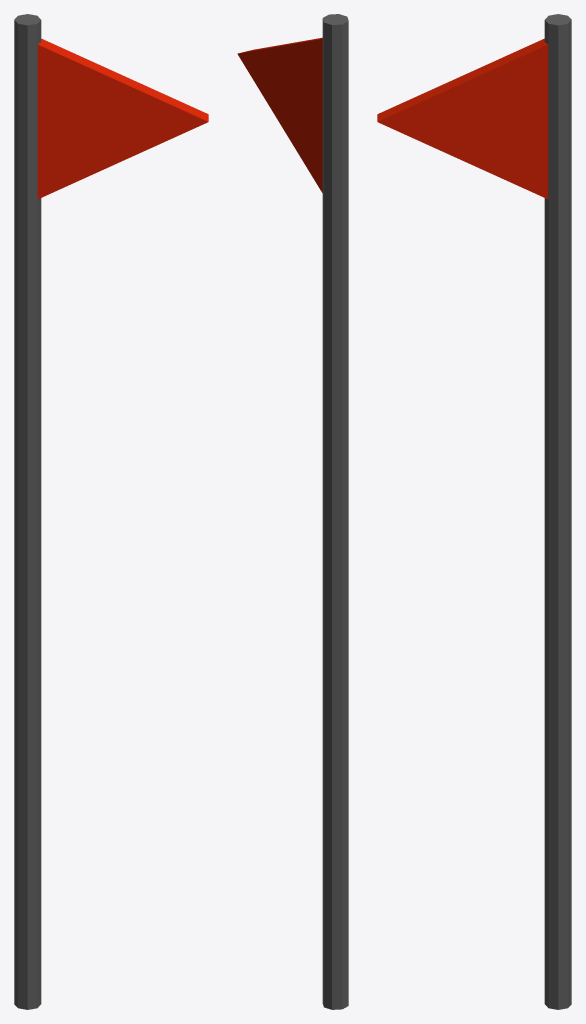
The model's file is Flag Pole.fbx.
3 renders of one model, left to right at view 1: azimuth 90°, elevation 25°; view 2: azimuth 210°, elevation 25°; view 3: azimuth 270°, elevation 25°, orthographic.
Parts seen in each view (by area): view 1: Flag Pole; view 2: Flag Pole; view 3: Flag Pole.
Boxes of the visible parts, x1=… form: Flag Pole: x1=14, y1=14, x2=208, y2=1009; Flag Pole: x1=237, y1=14, x2=348, y2=1009; Flag Pole: x1=377, y1=14, x2=571, y2=1009.
Size of the model in its own units: 3 by 120 by 21.5.
